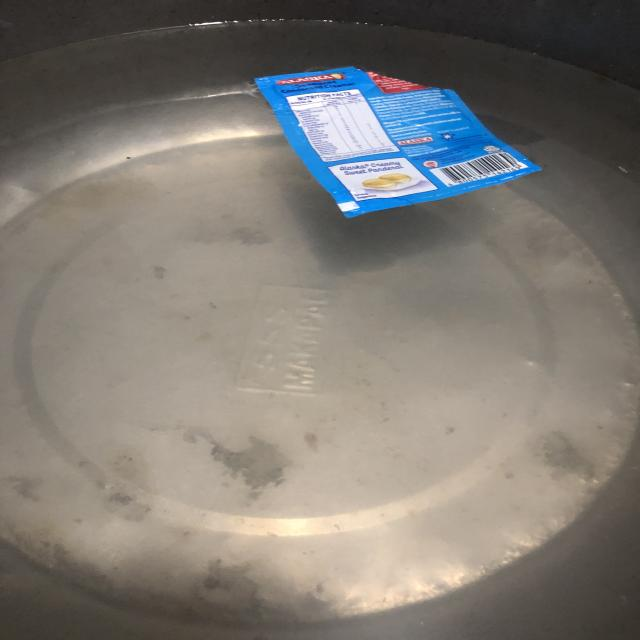Plastic Wrapper: (224, 48, 559, 232)
